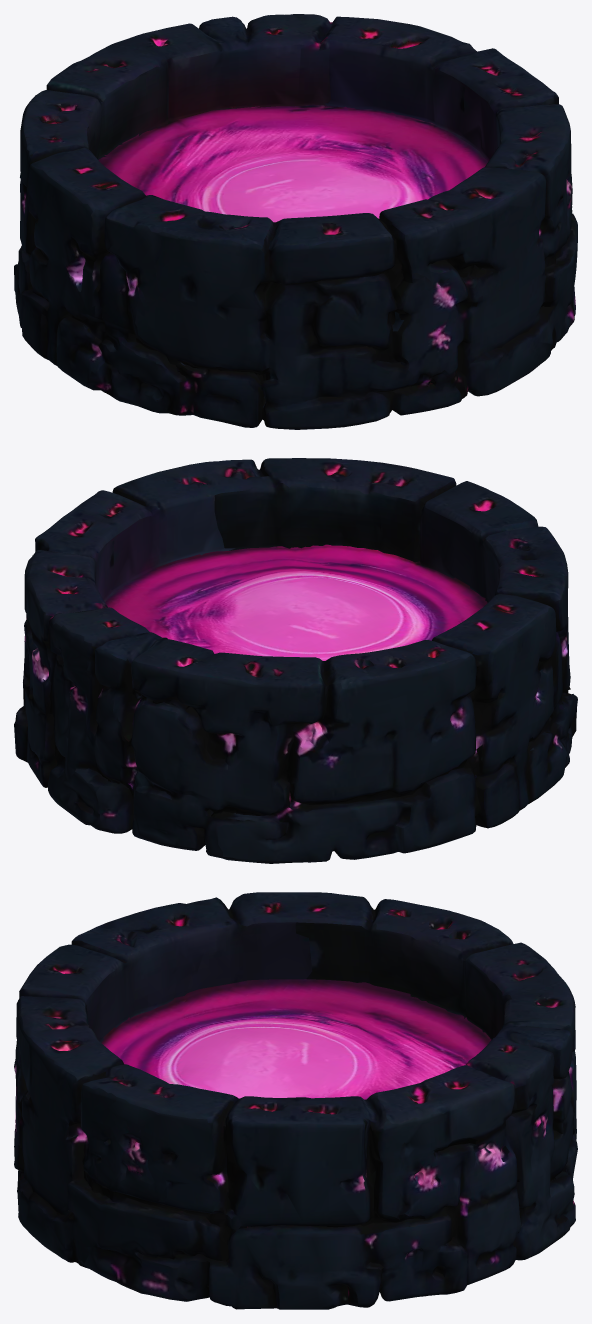
File: well-of-urd-pool-generated-2026-05-17T17-58-13-081Z.medium.glb
3 views of the same model, one above another, from view 1: azimuth 30°, elevation 25°; view 2: azimuth 150°, elevation 25°; view 3: azimuth 270°, elevation 25° (orthographic). The views are drawn at different scales.
Parts seen in each view (by area): view 1: temp_mesh.ply; view 2: temp_mesh.ply; view 3: temp_mesh.ply.
Boxes of the visible parts, x1,y1,x2,y2 form: temp_mesh.ply: (14,14,577,429); temp_mesh.ply: (14,458,577,863); temp_mesh.ply: (14,892,577,1309).
Size of the model in its own units: 1.97 by 0.73 by 1.97.
1 material, 1 textured.
